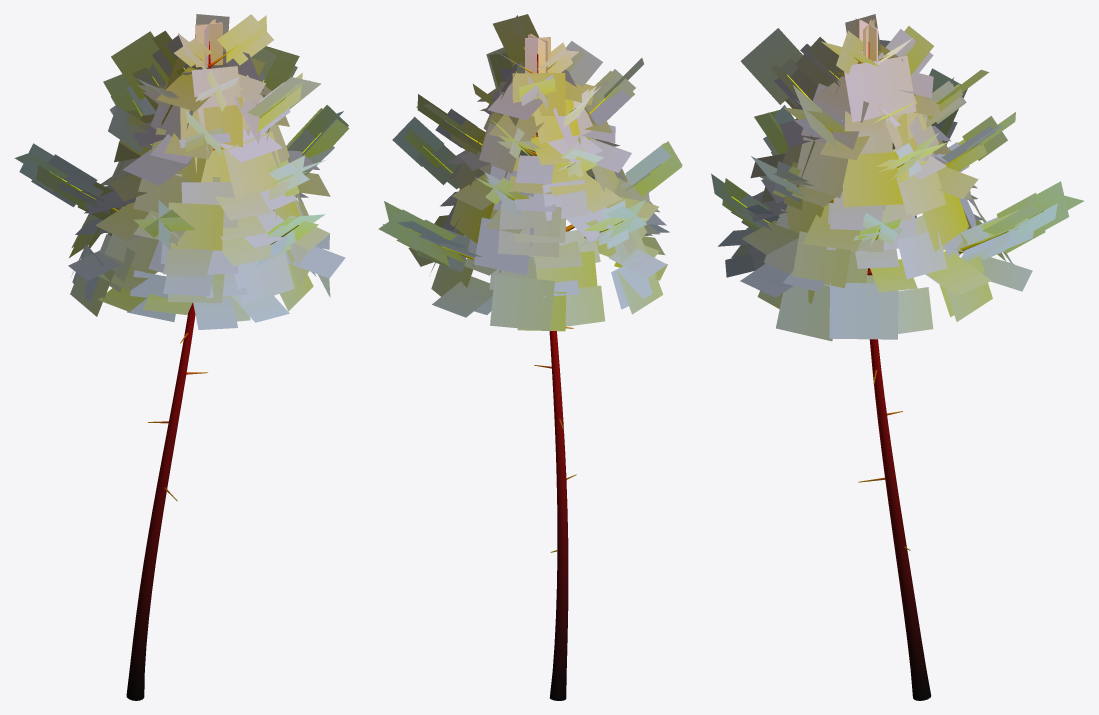
Rendered from akamatsu_0.glb.
The picture shows the model from 3 angles, left to right: view 1: azimuth 30°, elevation 25°; view 2: azimuth 150°, elevation 25°; view 3: azimuth 270°, elevation 25°; orthographic projection. The views are drawn at different scales.
Parts seen in each view (by area): view 1: akamatsu_0_lod0; view 2: akamatsu_0_lod0; view 3: akamatsu_0_lod0.
Boxes of the visible parts, box(x1,y1,x2,y2) form: akamatsu_0_lod0: box(14, 14, 349, 700); akamatsu_0_lod0: box(378, 14, 682, 700); akamatsu_0_lod0: box(711, 14, 1083, 700).
Size of what is drawn, in the model's own units: 9.08 by 20.2 by 9.67.
